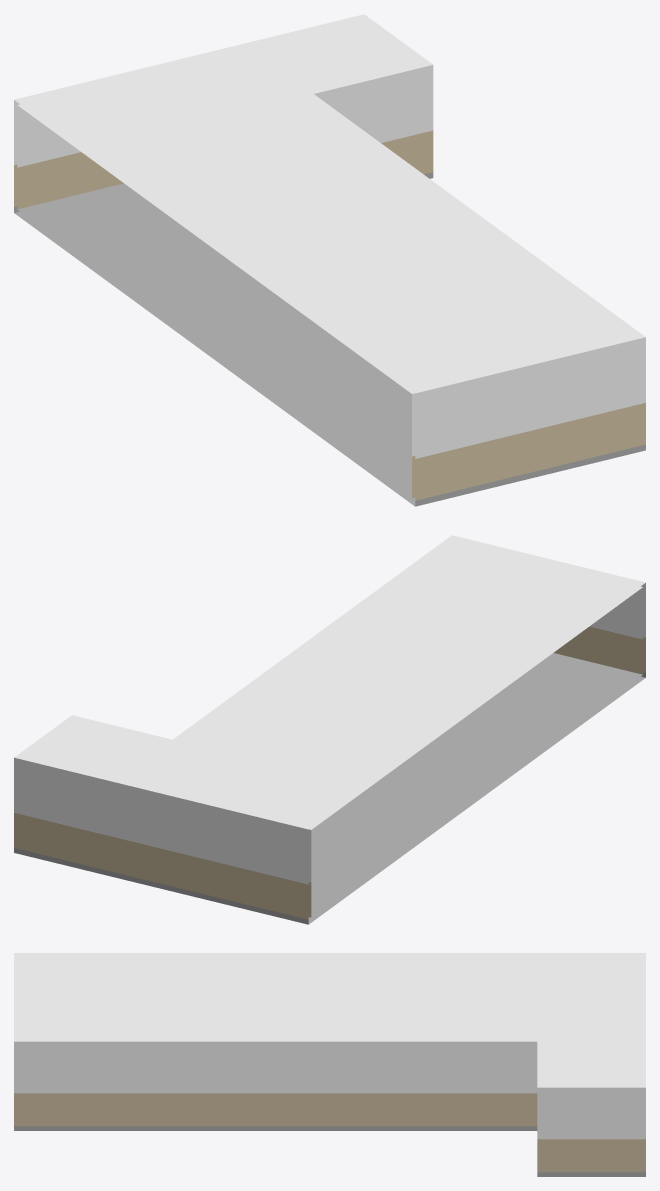
The model's file is interior_school_bathRoom_small.fbx.
The picture shows the model from 3 angles, top to bottom: view 1: azimuth 30°, elevation 25°; view 2: azimuth 150°, elevation 25°; view 3: azimuth 270°, elevation 25°; orthographic projection. The views are drawn at different scales.
Parts seen in each view (by area): view 1: Visible Mesh; view 2: Visible Mesh; view 3: Visible Mesh.
Boxes of the visible parts, x1,y1,x2,y2 form: Visible Mesh: (14, 14, 645, 506); Visible Mesh: (14, 535, 645, 924); Visible Mesh: (14, 953, 645, 1176).
Bounding box in the file's own units: 1230 × 380 × 2440.
